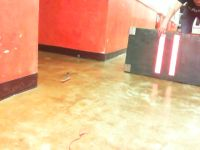switch: (168, 35, 180, 76), (154, 34, 166, 74)
